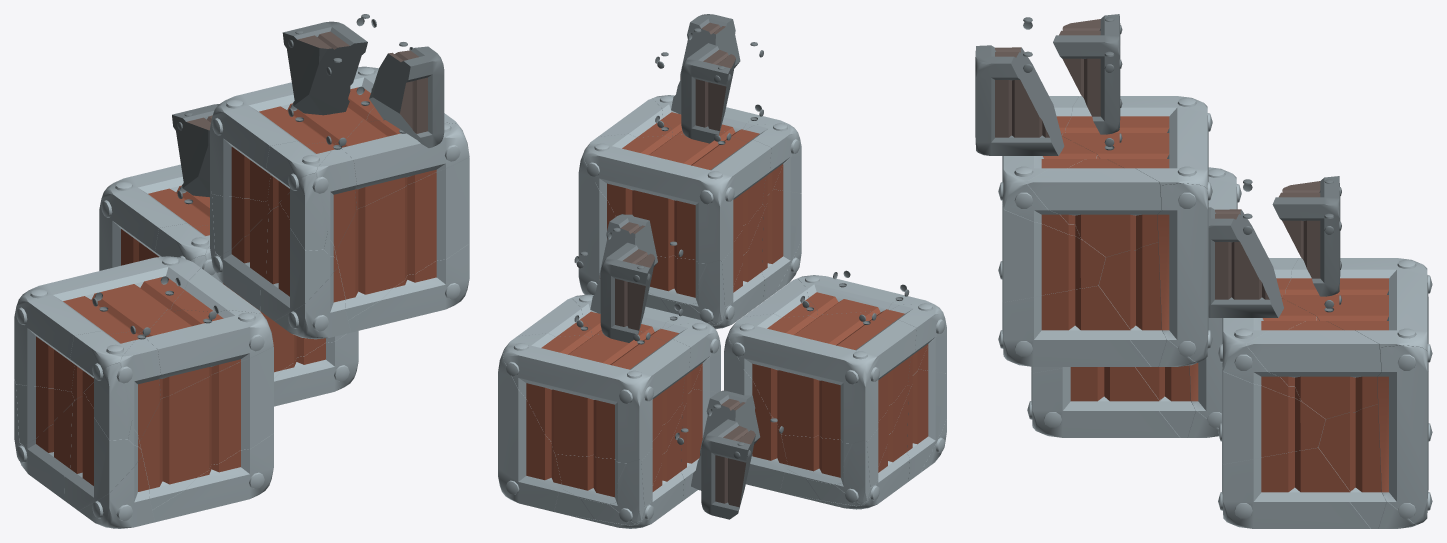
The model's file is DestroyedDecorationCrates.fbx.
The picture shows the model from 3 angles, left to right: view 1: azimuth 30°, elevation 25°; view 2: azimuth 150°, elevation 25°; view 3: azimuth 270°, elevation 25°; orthographic projection. The views are drawn at different scales.
Parts seen in each view (by area): view 1: crate__3__cell_cell.002_cell.011, crate__3__cell_cell_cell.014, crate__3__cell_cell_cell.008, crate__3__cell_cell.002_cell.018, crate__3__cell_cell.002_cell.002, crate__3__cell_cell_cell.010, crate__3__cell_cell_cell.016, crateDark__1__cell.079, crateDark__1__cell.083, crate__3__cell_cell.001_cell.009, crate__3__cell_cell.001_cell.017, crate__3__cell_cell_cell.012 (+18 smaller); view 2: crate__3__cell_cell.002_cell.011, crate__3__cell_cell.002_cell.002, crate__3__cell_cell.002_cell.018, crate__3__cell_cell.002_cell.001, crateDark__1__cell.008, crateDark__1__cell.053, crateDark__1__cell.079, crate__3__cell_cell.002_cell.005, crate__3__cell_cell.002_cell.009, crate__3__cell_cell.002_cell.012, crate__3__cell_cell.002_cell.016, crate__3__cell_cell.001_cell.017 (+28 smaller); view 3: crate__3__cell_cell_cell.012, crate__3__cell_cell_cell.005, crate__3__cell_cell.002_cell.002, crate__3__cell_cell_cell.002, crate__3__cell_cell_cell.015, crate__3__cell_cell.002_cell.018, crate__3__cell_cell_cell.006, crateDark__1__cell.083, crate__3__cell_cell.002_cell.001, crate__3__cell_cell.002_cell.019, crate__3__cell_cell_cell.014, crate__3__cell_cell_cell.003 (+15 smaller).
Boxes of the visible parts, left/top/right/bottom form: crate__3__cell_cell.002_cell.011: left=14, top=256, right=200, bottom=391; crate__3__cell_cell_cell.014: left=335, top=157, right=469, bottom=320; crate__3__cell_cell_cell.008: left=139, top=347, right=273, bottom=509; crate__3__cell_cell.002_cell.018: left=210, top=66, right=378, bottom=201; crate__3__cell_cell.002_cell.002: left=99, top=164, right=209, bottom=270; crate__3__cell_cell_cell.010: left=146, top=309, right=273, bottom=398; crate__3__cell_cell_cell.016: left=341, top=119, right=469, bottom=209; crateDark__1__cell.079: left=282, top=21, right=367, bottom=115; crateDark__1__cell.083: left=369, top=46, right=444, bottom=147; crate__3__cell_cell.001_cell.009: left=64, top=392, right=142, bottom=510; crate__3__cell_cell.001_cell.017: left=260, top=203, right=338, bottom=320; crate__3__cell_cell_cell.012: left=348, top=244, right=469, bottom=332; crate__3__cell_cell.002_cell.011: left=729, top=312, right=916, bottom=443; crate__3__cell_cell.002_cell.002: left=503, top=331, right=690, bottom=462; crate__3__cell_cell.002_cell.018: left=583, top=132, right=771, bottom=263; crate__3__cell_cell.002_cell.001: left=498, top=346, right=561, bottom=511; crateDark__1__cell.008: left=600, top=242, right=655, bottom=342; crateDark__1__cell.053: left=701, top=419, right=755, bottom=519; crateDark__1__cell.079: left=681, top=43, right=735, bottom=143; crate__3__cell_cell.002_cell.005: left=555, top=404, right=684, bottom=506; crate__3__cell_cell.002_cell.009: left=781, top=384, right=910, bottom=487; crate__3__cell_cell.002_cell.012: left=724, top=325, right=787, bottom=492; crate__3__cell_cell.002_cell.016: left=648, top=204, right=765, bottom=307; crate__3__cell_cell.001_cell.017: left=761, top=189, right=801, bottom=301; crate__3__cell_cell_cell.012: left=1002, top=285, right=1150, bottom=366; crate__3__cell_cell_cell.005: left=1222, top=447, right=1370, bottom=528; crate__3__cell_cell.002_cell.002: left=1281, top=258, right=1428, bottom=371; crate__3__cell_cell_cell.002: left=1246, top=317, right=1381, bottom=419; crate__3__cell_cell_cell.015: left=1027, top=155, right=1161, bottom=257; crate__3__cell_cell.002_cell.018: left=1062, top=96, right=1208, bottom=203; crate__3__cell_cell_cell.006: left=1031, top=367, right=1179, bottom=437; crateDark__1__cell.083: left=975, top=45, right=1064, bottom=155; crate__3__cell_cell.002_cell.001: left=1377, top=345, right=1428, bottom=524; crate__3__cell_cell.002_cell.019: left=1157, top=183, right=1208, bottom=362; crate__3__cell_cell_cell.014: left=1002, top=204, right=1105, bottom=302; crate__3__cell_cell_cell.003: left=1222, top=365, right=1325, bottom=464.
Size of the model in its own units: 432 by 495 by 448.
